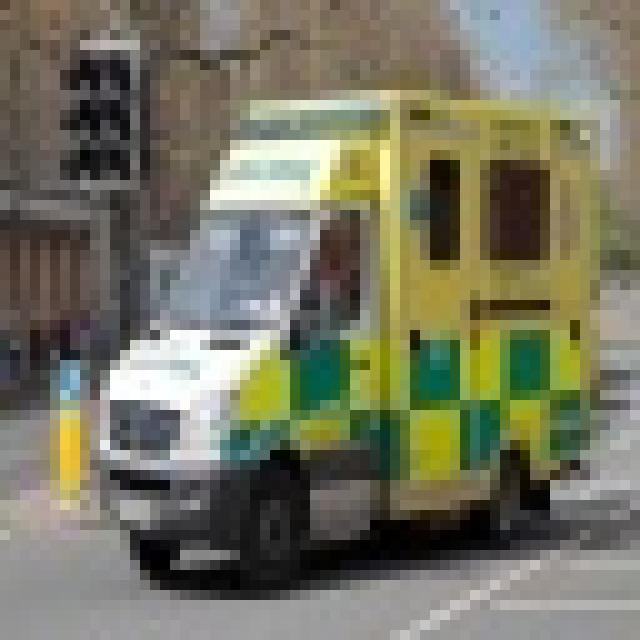Ambulance: (90, 80, 600, 580)
